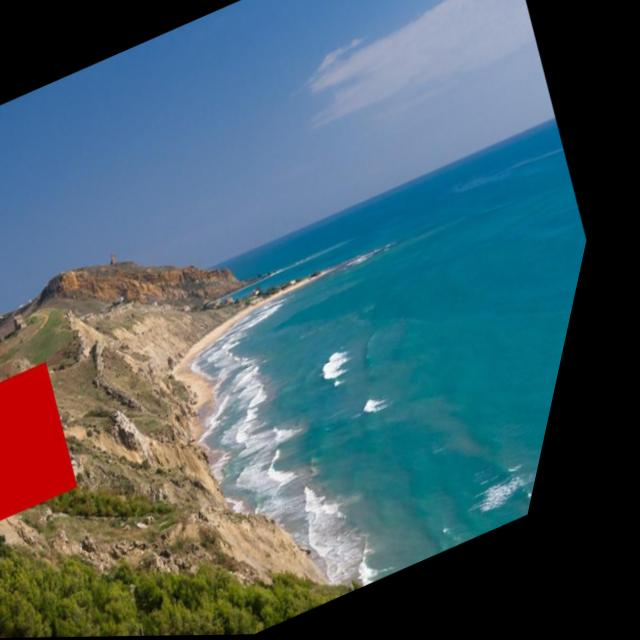RedSquare: (0, 352, 132, 536)
